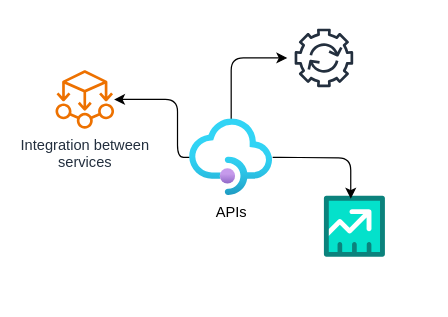
The diagram is 448 pixels wide and 317 high, and some of its shapes have lost their labels. Each missing label, with the box of its shape:
Automate tasks: (286, 20, 361, 95)
Products and services: (323, 195, 385, 257)
